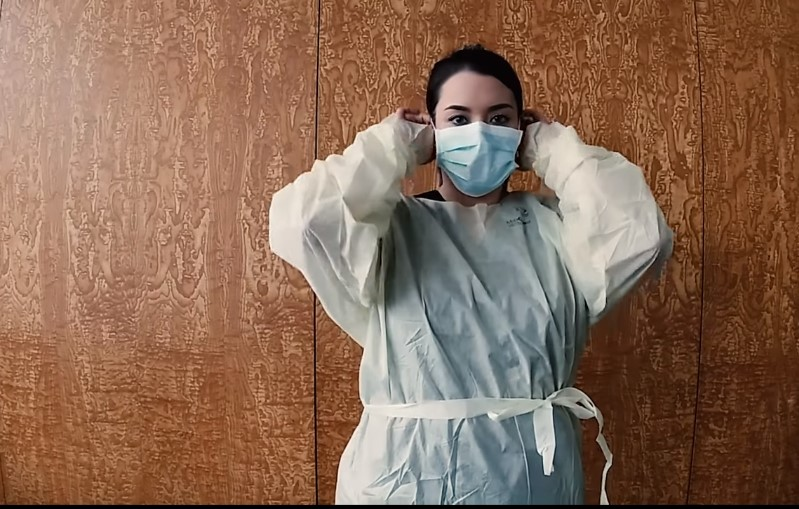face_with_mask: (426, 57, 531, 196)
